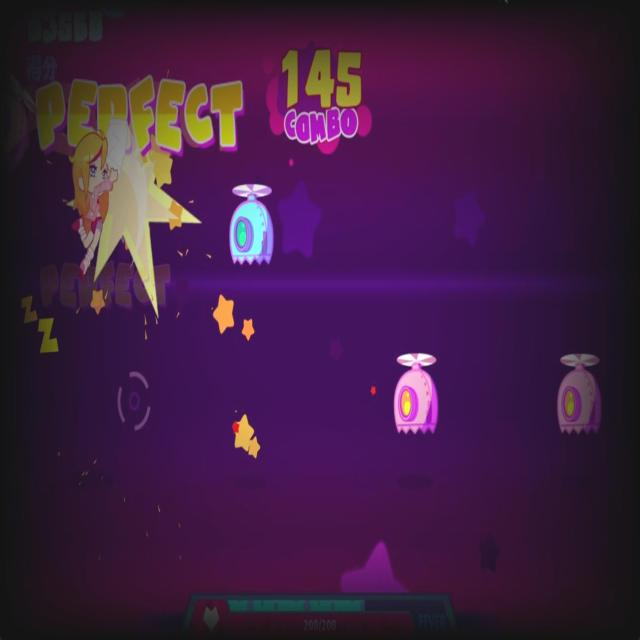jiqiqiu: (389, 348, 445, 443), (228, 179, 282, 267), (556, 349, 608, 438)
